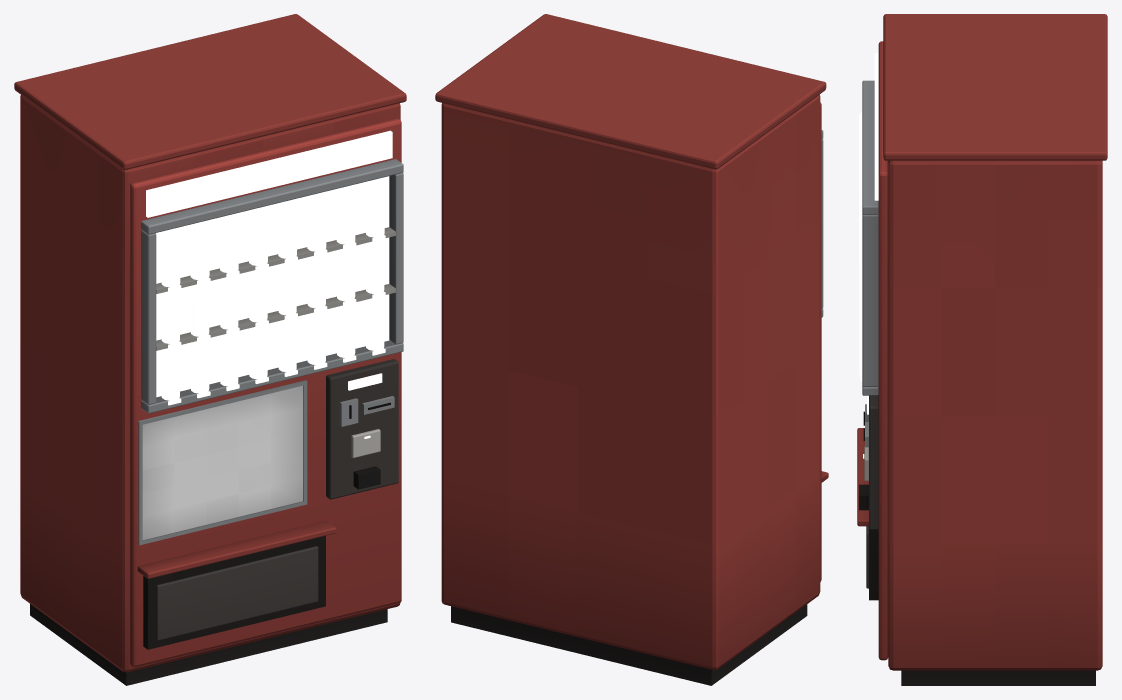
Rendered from prop_vending_machine_01.glb.
3 views of the same model, side by side, from view 1: azimuth 30°, elevation 25°; view 2: azimuth 150°, elevation 25°; view 3: azimuth 270°, elevation 25° (orthographic).
Parts seen in each view (by area): view 1: prop_vending_machine_01; view 2: prop_vending_machine_01; view 3: prop_vending_machine_01.
Part boxes in pixels (left/top/right/bottom): prop_vending_machine_01: left=14, top=14, right=406, bottom=685; prop_vending_machine_01: left=435, top=14, right=828, bottom=685; prop_vending_machine_01: left=857, top=14, right=1107, bottom=685.
Bounding box in the file's own units: 1.02 × 1.83 × 0.77.
